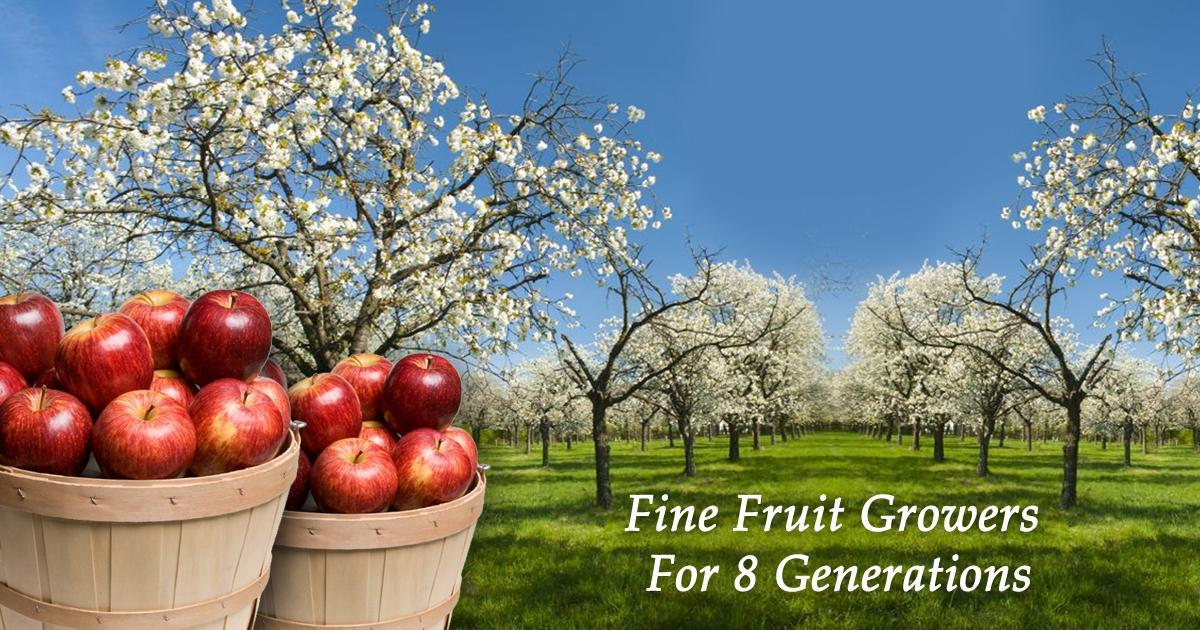apple: (95, 389, 197, 478), (1, 384, 94, 477), (50, 315, 152, 398), (182, 288, 271, 379), (192, 379, 282, 461), (383, 354, 463, 437), (289, 374, 363, 456), (313, 440, 394, 510), (402, 434, 471, 499), (1, 293, 58, 365)
